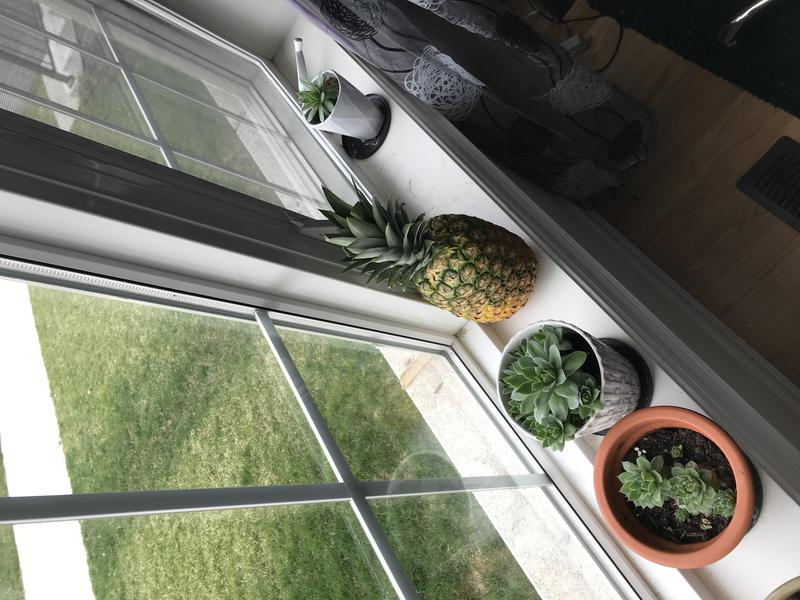pineapple: (301, 182, 549, 331)
